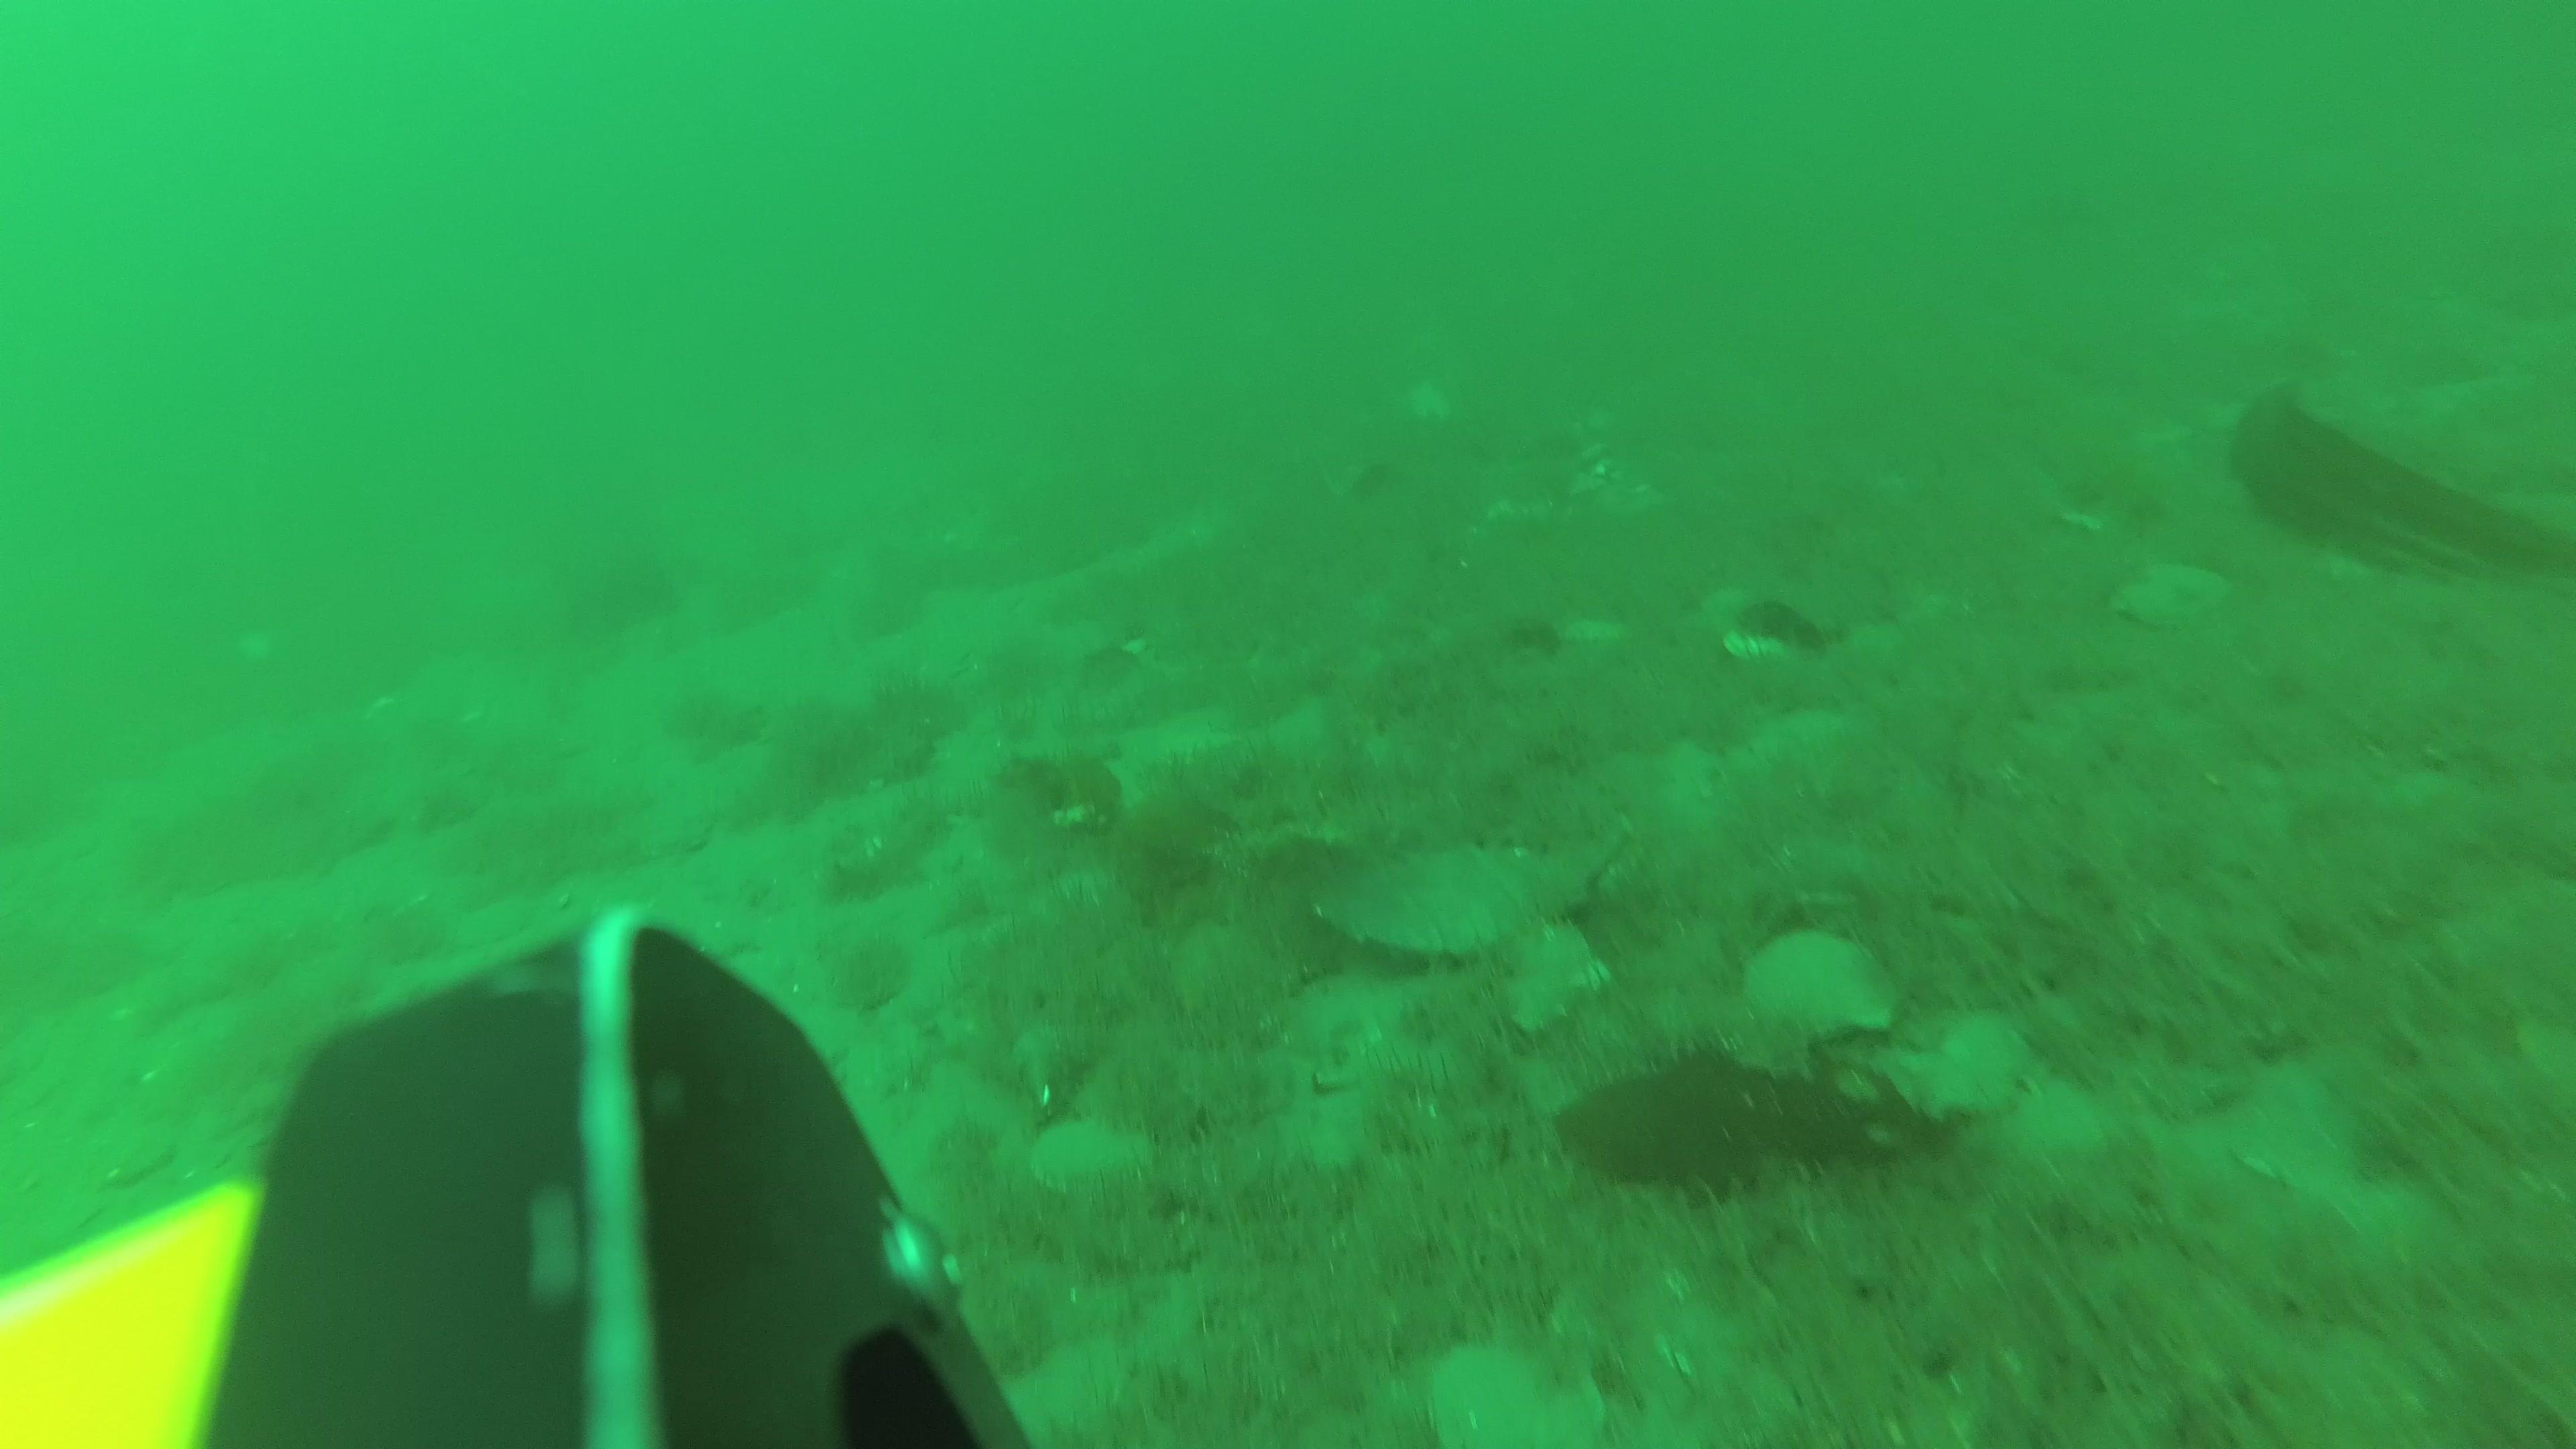scallop: (1433, 1345, 1606, 1449), (1741, 929, 1898, 1033), (1488, 924, 1599, 1037), (1037, 1111, 1157, 1189), (2109, 554, 2226, 628), (1721, 623, 1787, 663)
